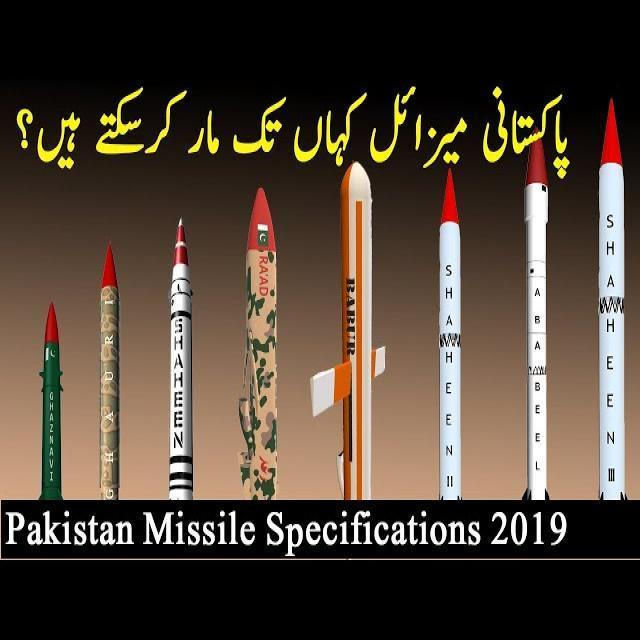Missile: (334, 166, 381, 504), (239, 182, 283, 500), (597, 92, 629, 507), (433, 165, 467, 500), (523, 117, 552, 497), (167, 217, 196, 500), (98, 243, 124, 505), (39, 302, 64, 502)
